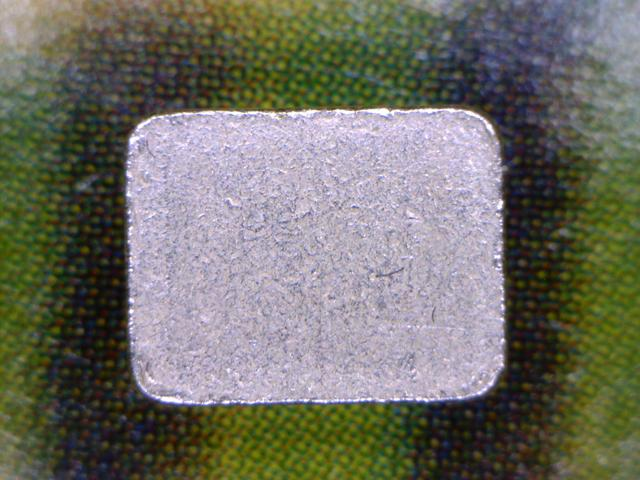ok: (119, 107, 507, 402)
